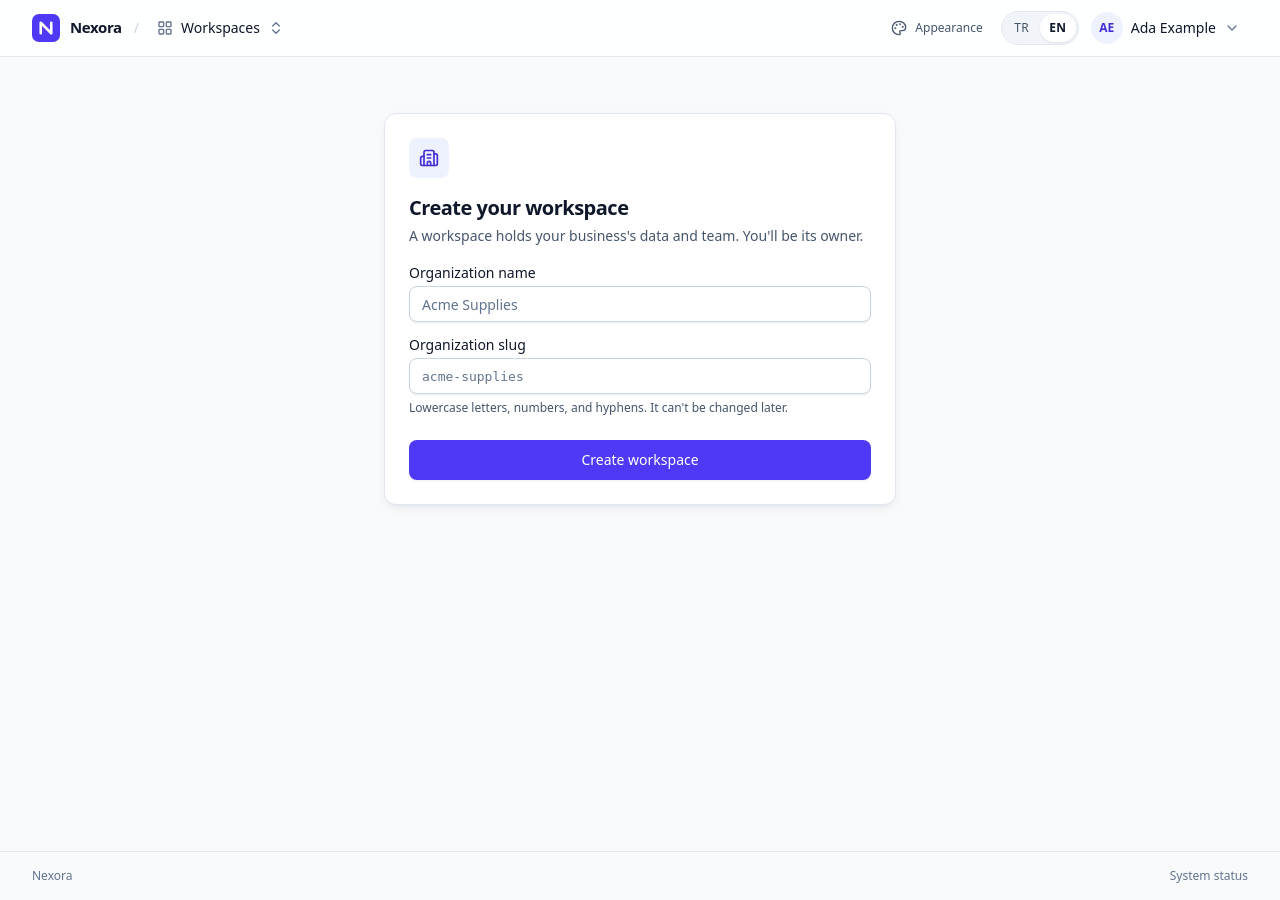
Test case: OnboardingPage › validates before submitting
This screenshot has width=1280, height=900.
Expected: the heading "Create your workspace" is shown, [409,194,628,221]
Step 1. Click the button "Create workspace" → (640, 460), box [409,440,871,480]
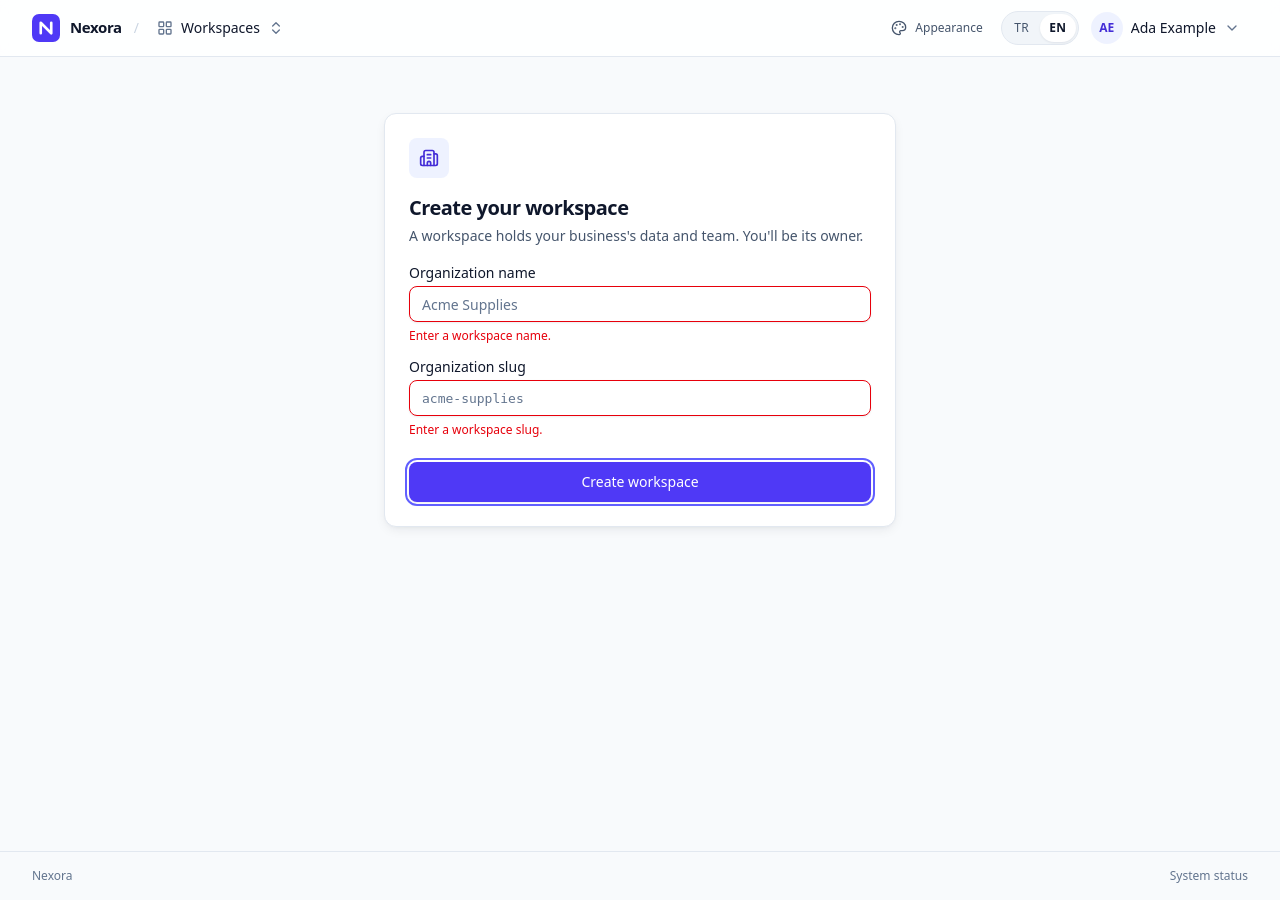
Expected: the text "Enter a workspace name." is shown, [409,327,551,344]
Step 2. Type "Acme" into the field labelled "Organization name" → (640, 304), box [409,286,871,322]
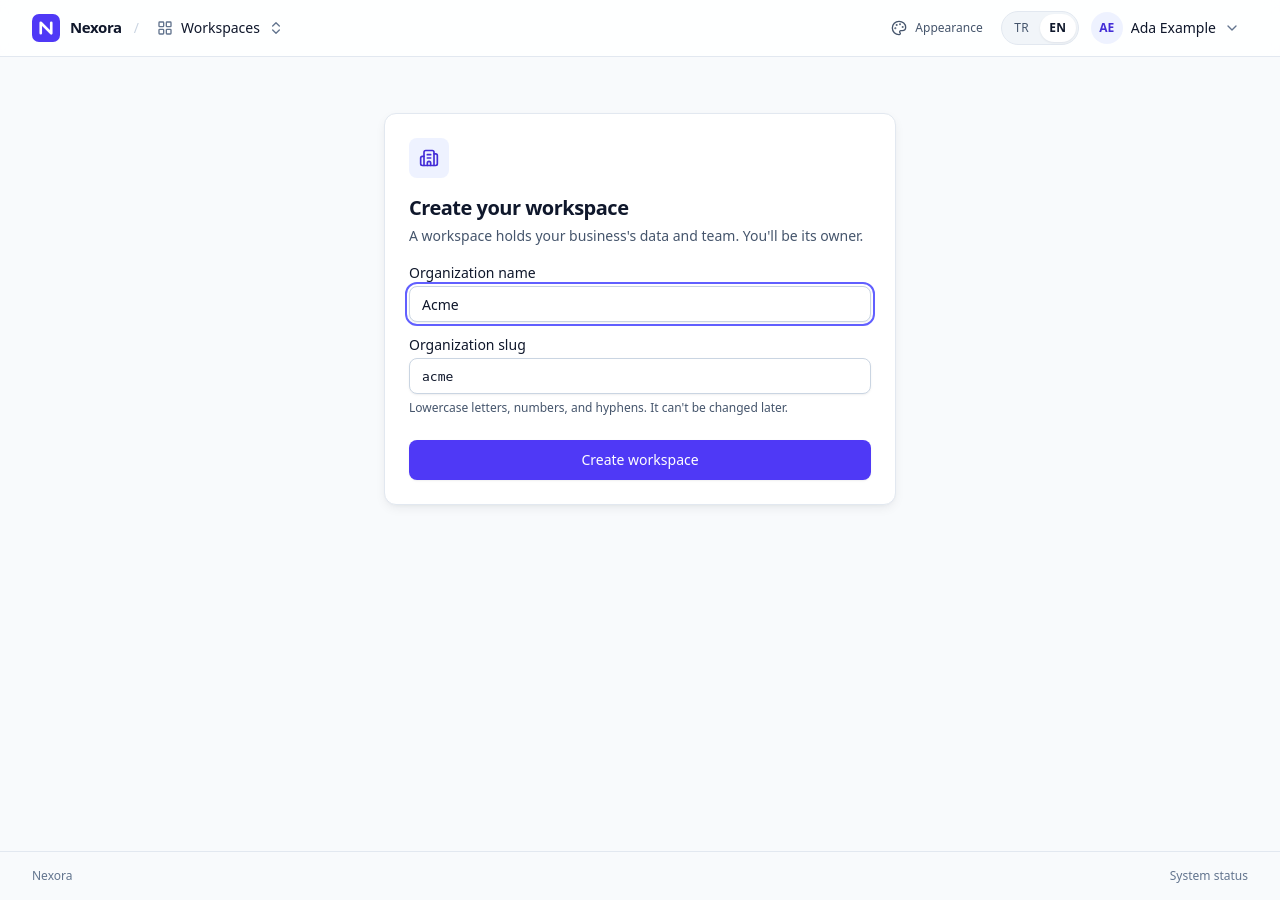
Step 3. Replace the text in the field labelled "Organization slug" with "Bad Slug" → (640, 376), box [409,358,871,394]
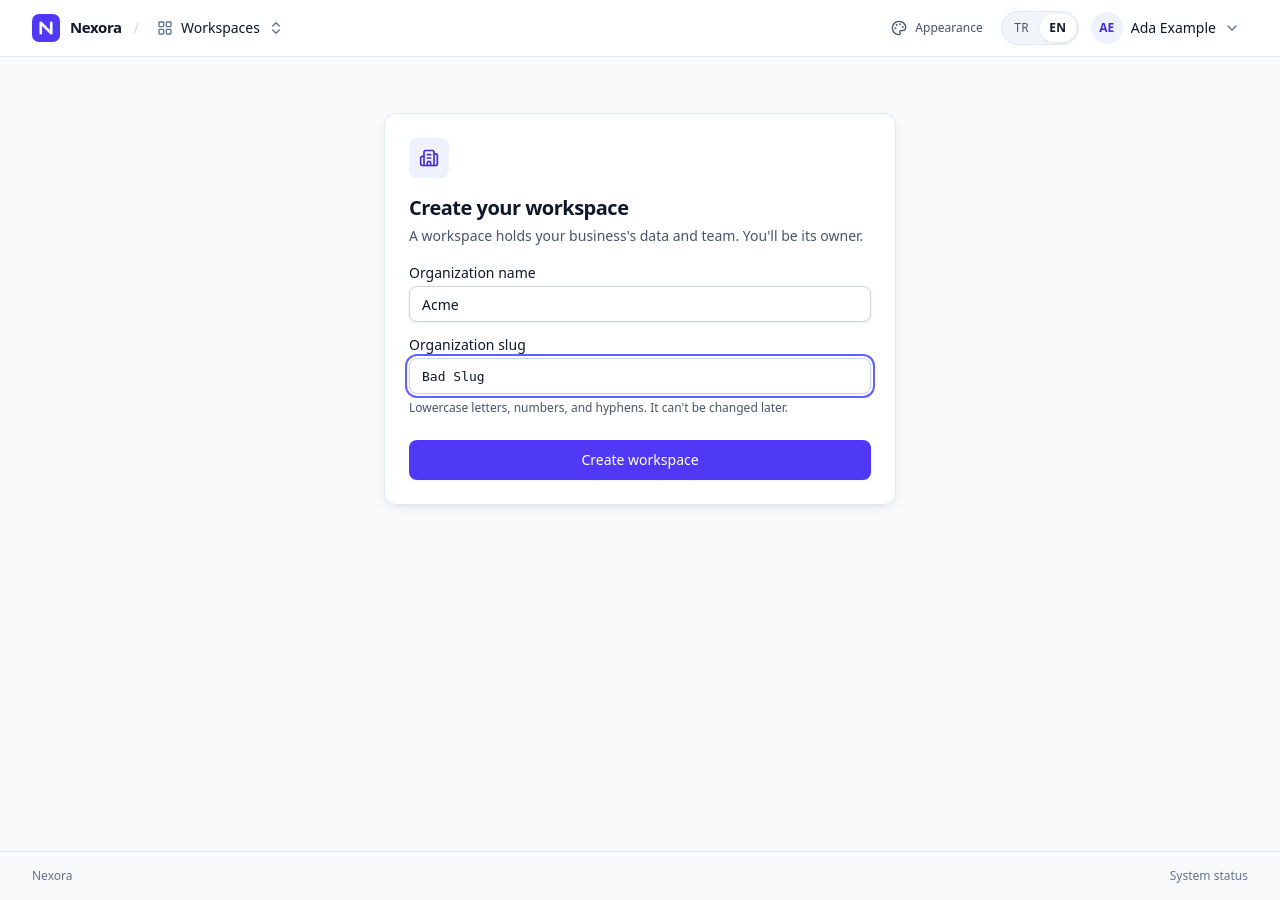
Step 4. Click the button "Create workspace" → (640, 460), box [409,440,871,480]
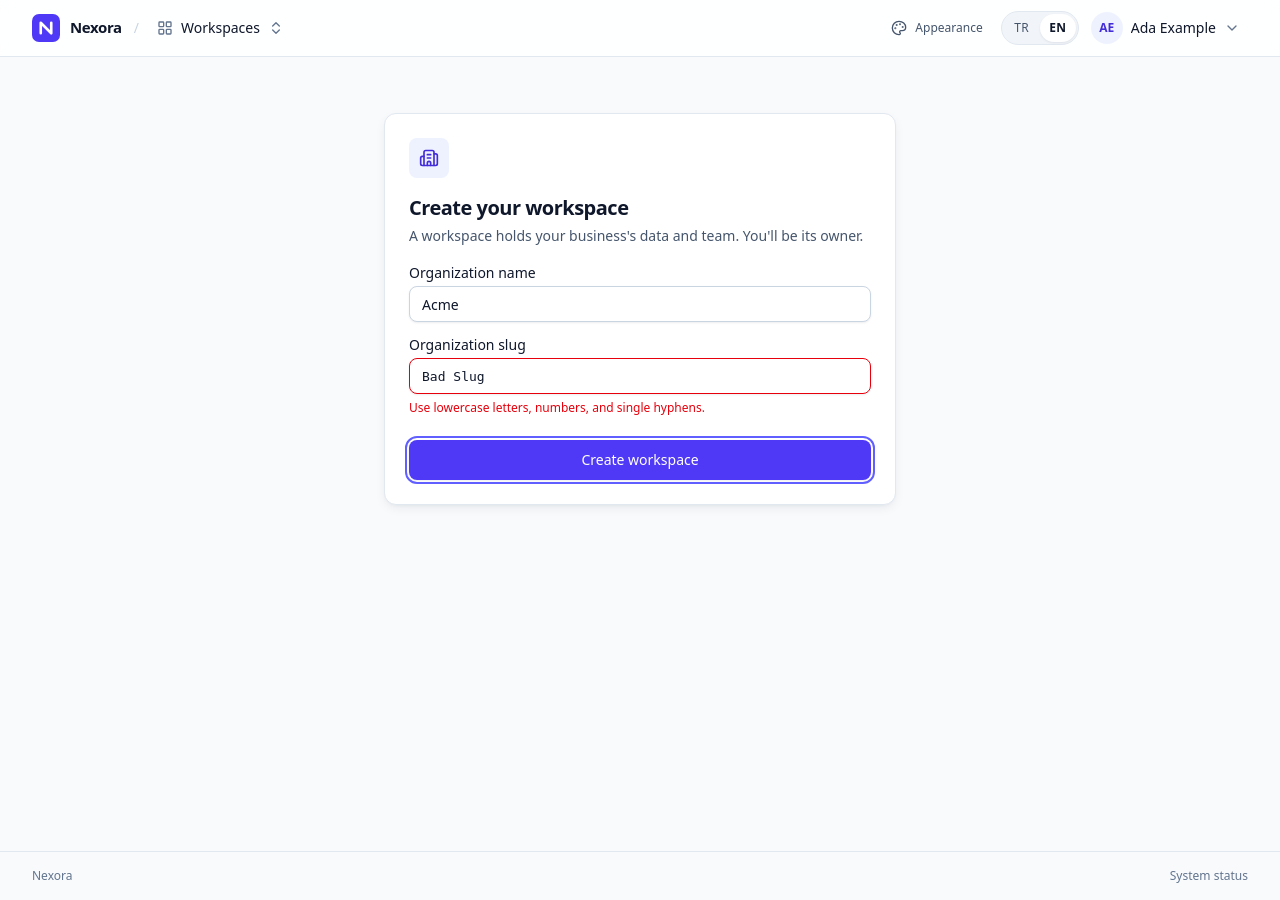
Expected: the text "Use lowercase letters, numbers, and single hyphens." is shown, [409,399,705,416]
